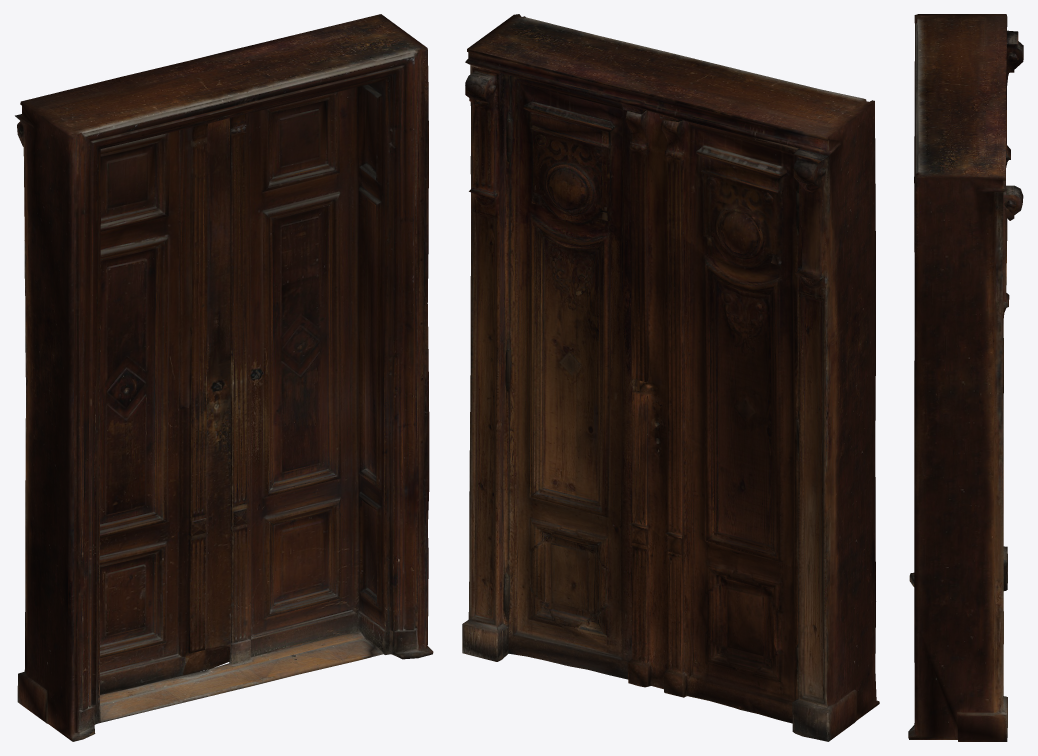
Rendered from Modular Wooden Door_LOD4__ugywdfqdw.gltf.
3 renders of one model, left to right at view 1: azimuth 30°, elevation 25°; view 2: azimuth 150°, elevation 25°; view 3: azimuth 270°, elevation 25°, orthographic. The views are drawn at different scales.
Visible parts, largest first — view 1: Aset_modular_medieval_M_ugywdfqdw_01_LOD4, Aset_modular_medieval_M_ugywdfqdw_00_LOD4; view 2: Aset_modular_medieval_M_ugywdfqdw_01_LOD4, Aset_modular_medieval_M_ugywdfqdw_00_LOD4; view 3: Aset_modular_medieval_M_ugywdfqdw_01_LOD4.
Part boxes in pixels (box(x1,y1,x2,y2)): Aset_modular_medieval_M_ugywdfqdw_01_LOD4: box(15, 14, 433, 741); Aset_modular_medieval_M_ugywdfqdw_00_LOD4: box(99, 118, 230, 694); Aset_modular_medieval_M_ugywdfqdw_01_LOD4: box(462, 14, 879, 741); Aset_modular_medieval_M_ugywdfqdw_00_LOD4: box(625, 110, 799, 723); Aset_modular_medieval_M_ugywdfqdw_01_LOD4: box(908, 14, 1023, 741).
Bounding box in the file's own units: 255 × 401 × 74.42.
1 material, 1 textured.
